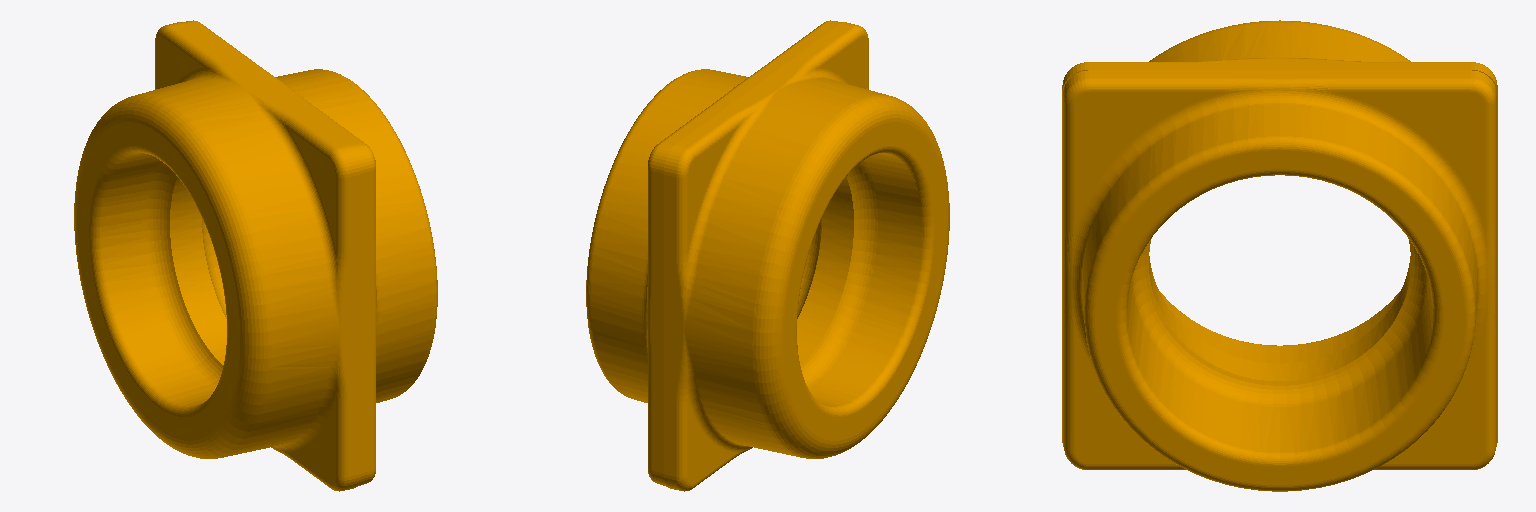
URDF robot description (Part2.urdf):
<?xml version="1.0" ?>
<robot name="Part2.urdf">
  <link name="baseLink">
    <contact>
      <lateral_friction value="0.5"/>
      <rolling_friction value="0.0"/>
      <contact_cfm value="0.0"/>
      <contact_erp value="1.0"/>
    </contact>
    <inertial>
      <origin rpy="0 0 0" xyz="0.0 0.0 0.0"/>
       <mass value=".1"/>
       <inertia ixx="1" ixy="0" ixz="0" iyy="1" iyz="0" izz="1"/>
    </inertial>
    <visual>
      <origin rpy="0 0 0" xyz="0 0 0"/>
      <geometry>
        <mesh filename="Part2_mm.obj" scale=".001 .001 .001"/> #scale="1 1 1"
      </geometry>
    </visual>
    <collision>
      <origin rpy="0 0 0" xyz="0 0 0"/>
      <geometry>
	 <mesh filename="Part2_mm.obj" scale=".001 .001 .001"/> #scale=".1 .1 .1"
      </geometry>
    </collision>
  </link>
</robot>

--- What the picture shows (computed from the rendered views, not written in the file) ---
The picture shows the robot from 3 angles, left to right: view 1: azimuth 30°, elevation 25°; view 2: azimuth 150°, elevation 25°; view 3: azimuth 270°, elevation 25°; orthographic projection.
Model Part2.urdf with 1 links and 0 joints (none), rooted at baseLink, posed every joint at zero.
Links seen in each view (by area): view 1: baseLink; view 2: baseLink; view 3: baseLink.
Link boxes in pixels (bbox=[...]): baseLink: bbox=[74, 20, 437, 491]; baseLink: bbox=[586, 20, 949, 491]; baseLink: bbox=[1062, 20, 1497, 491].
Size in the robot's own frame: 0.0492 by 0.0814 by 0.0814 metres.
1 mesh visuals loaded from 1 distinct referenced files (1 OBJ).